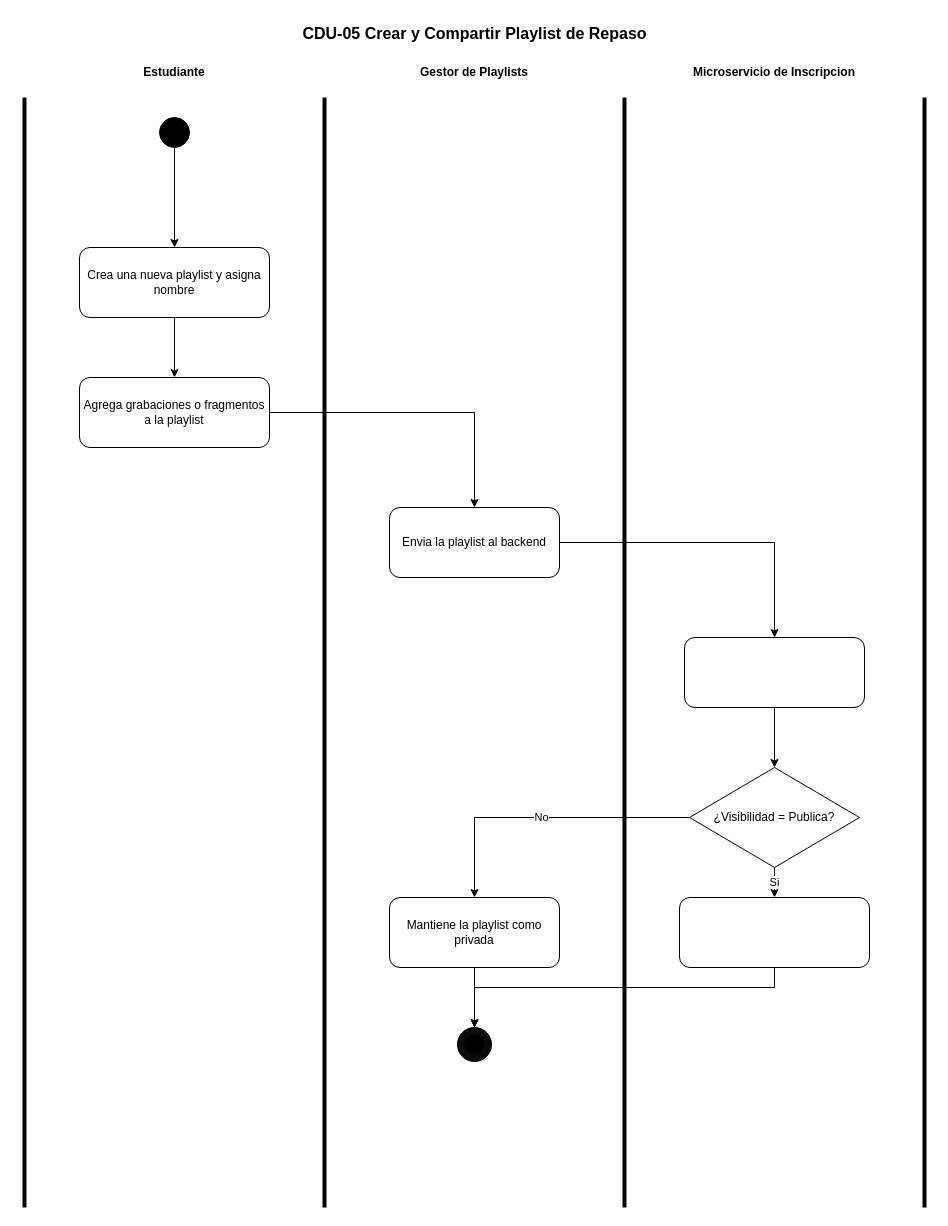
This 948x1226 diagram has some shape labels left out. The shapes that lost their labels are listed below. From the top down, each one's box as (x1, y1, x2, y2) in pixels, then its label:
(684, 636, 864, 708): Persiste la playlist asociada al perfil
(678, 896, 870, 968): Genera enlace unico de acceso compartido
